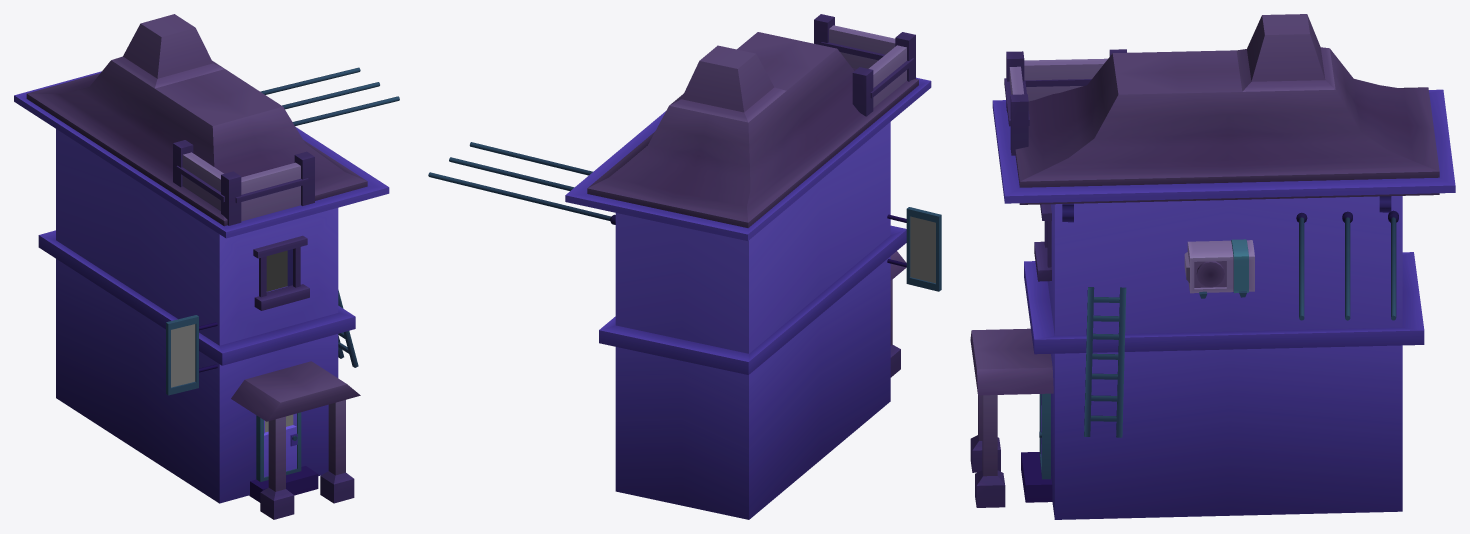
The model's file is scene_building_left.obj.
The picture shows the model from 3 angles, left to right: view 1: azimuth 30°, elevation 25°; view 2: azimuth 150°, elevation 25°; view 3: azimuth 270°, elevation 25°; orthographic projection. The views are drawn at different scales.
Parts seen in each view (by area): view 1: building_left; view 2: building_left; view 3: building_left.
Boxes of the visible parts, <box> form: building_left: <box>14,14,399,519</box>; building_left: <box>428,14,941,519</box>; building_left: <box>970,14,1455,519</box>.
Bounding box in the file's own units: 933 × 1029 × 991.
2 materials, 1 textured.
